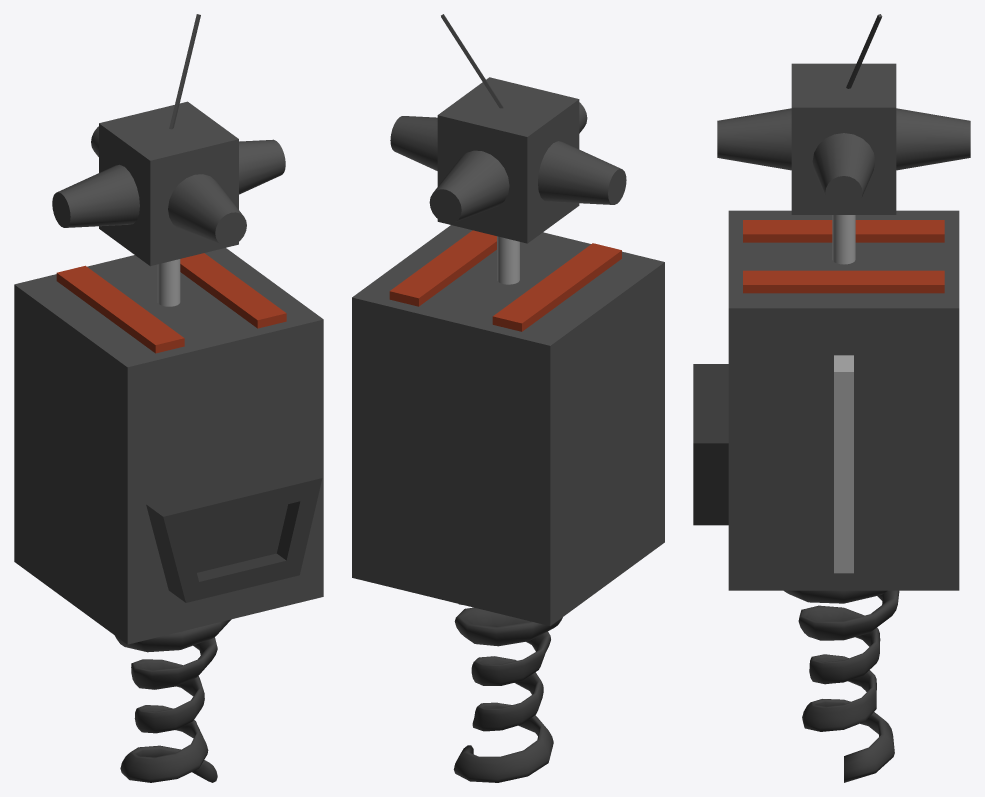
The model's file is nemico 2.fbx.
The picture shows the model from 3 angles, left to right: view 1: azimuth 30°, elevation 25°; view 2: azimuth 150°, elevation 25°; view 3: azimuth 270°, elevation 25°; orthographic projection.
Visible parts, largest first — view 1: pCube4, pCube12, pCube5, pHelix2, pCube8, pCube7, pCylinder10; view 2: pCube4, pCube12, pHelix2, pCube8, pCube7, pCylinder10; view 3: pCube4, pCube12, pHelix2, pCube5, pCube7, pCube6, pCube8, pCylinder10.
Part boxes in pixels (left/top/right/bottom): pCube4: left=14, top=248, right=323, bottom=644; pCube12: left=52, top=14, right=285, bottom=266; pCube5: left=146, top=465, right=322, bottom=602; pHelix2: left=115, top=619, right=231, bottom=782; pCube8: left=56, top=265, right=184, bottom=353; pCube7: left=180, top=253, right=286, bottom=328; pCylinder10: left=157, top=259, right=180, bottom=306; pCube4: left=352, top=225, right=664, bottom=626; pCube12: left=390, top=14, right=626, bottom=243; pHelix2: left=453, top=604, right=562, bottom=782; pCube8: left=492, top=243, right=621, bottom=331; pCube7: left=389, top=230, right=496, bottom=306; pCylinder10: left=497, top=236, right=519, bottom=284; pCube4: left=728, top=210, right=959, bottom=590; pCube12: left=717, top=14, right=970, bottom=214; pHelix2: left=784, top=590, right=899, bottom=782; pCube5: left=693, top=364, right=728, bottom=525; pCube7: left=743, top=270, right=944, bottom=293; pCube6: left=834, top=355, right=853, bottom=573; pCube8: left=743, top=220, right=944, bottom=242; pCylinder10: left=832, top=215, right=855, bottom=264.
Size of the model in its own units: 224 by 676 by 221.
